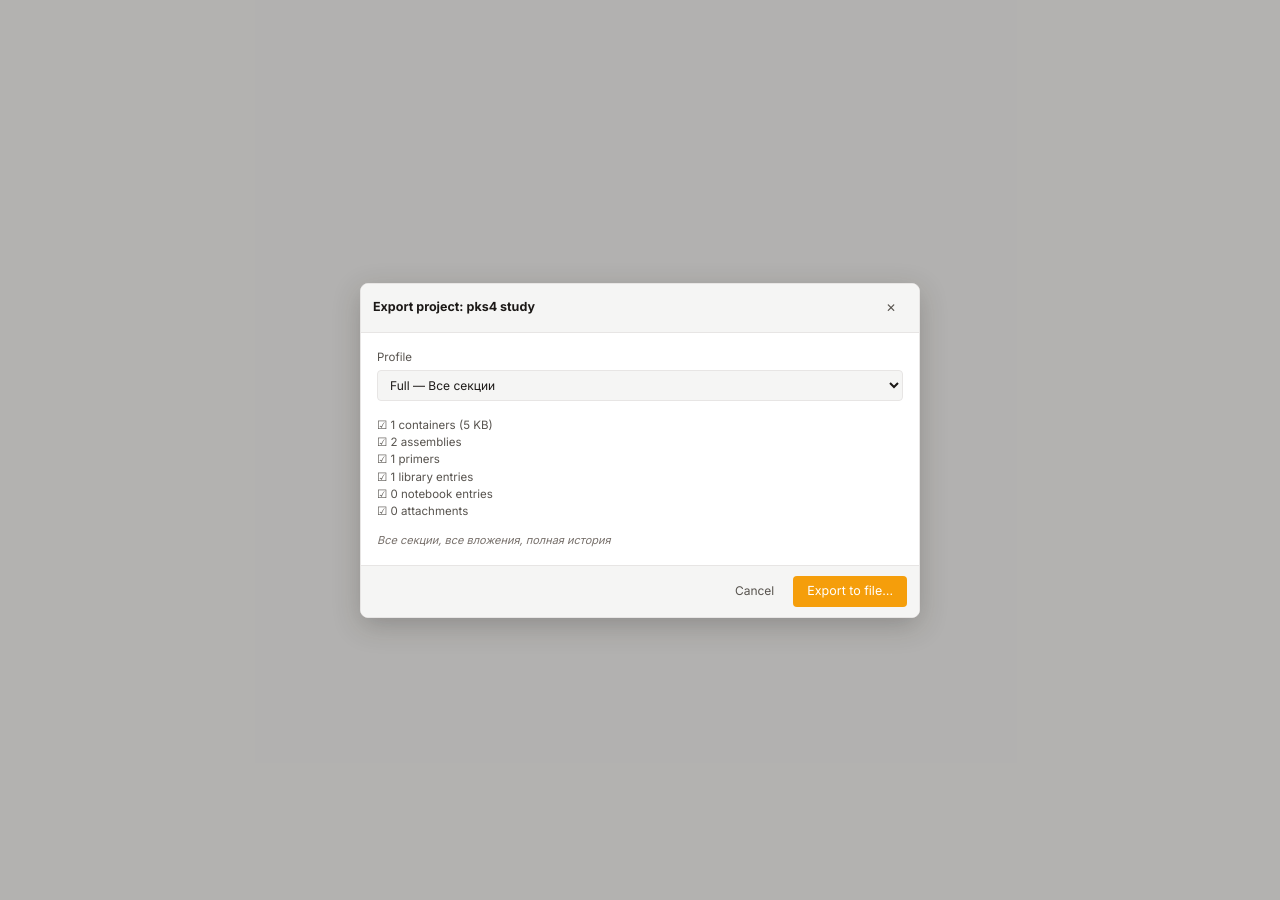
Test case: K10 — ExportProjectModal › reveals checkbox matrix when custom profile chosen
Select "Custom — Чекбокс-матрица" in the dropdown with test id "export-profile-select": (640, 385) [377,370,903,401]
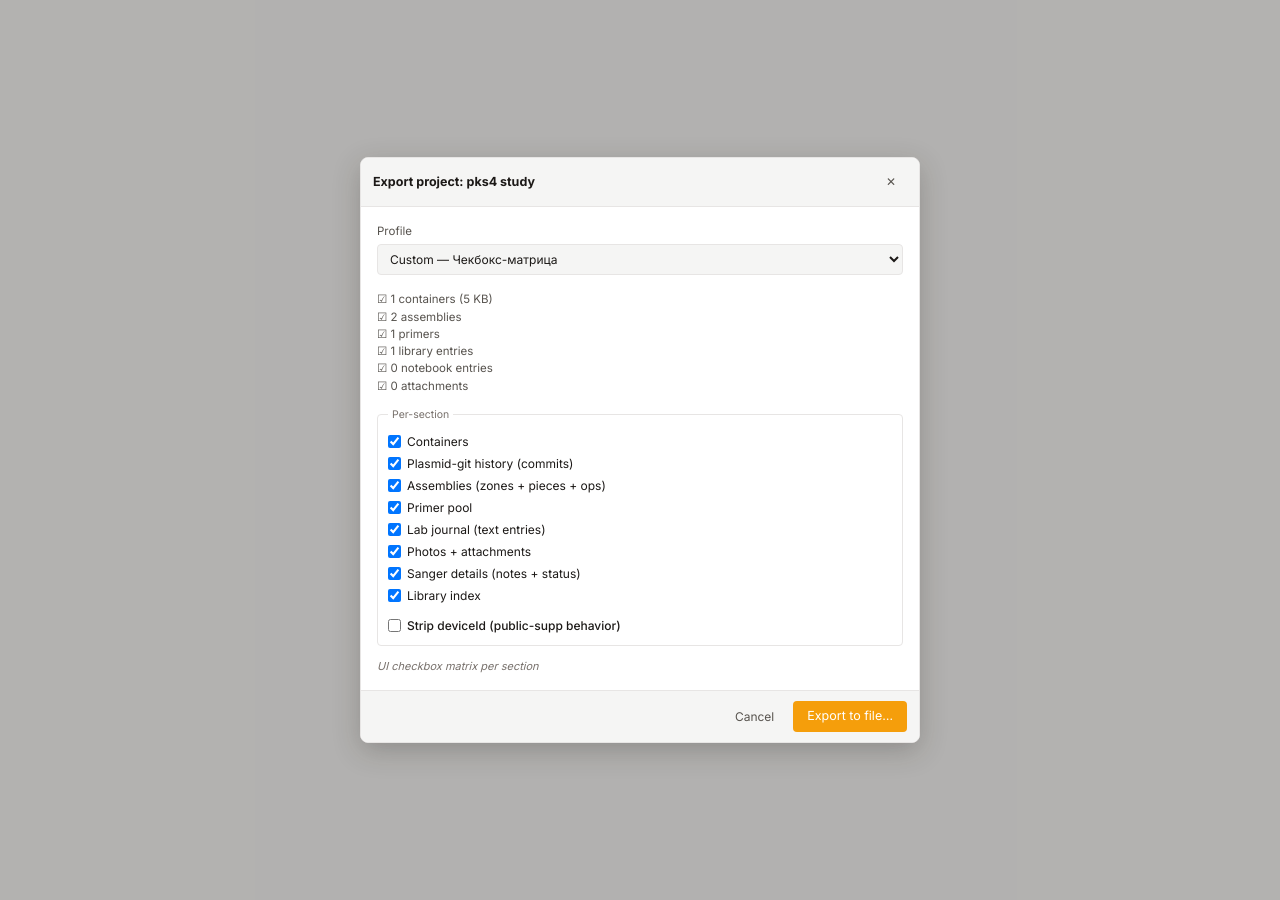
Expected: the element with test id "export-custom-checkboxes" is shown, [377,407,903,646]
Expected: the checkbox with test id "export-section-containers" is shown, [388,435,401,448]
Expected: the checkbox with test id "export-strip-telemetry" is shown, [388,619,401,632]
